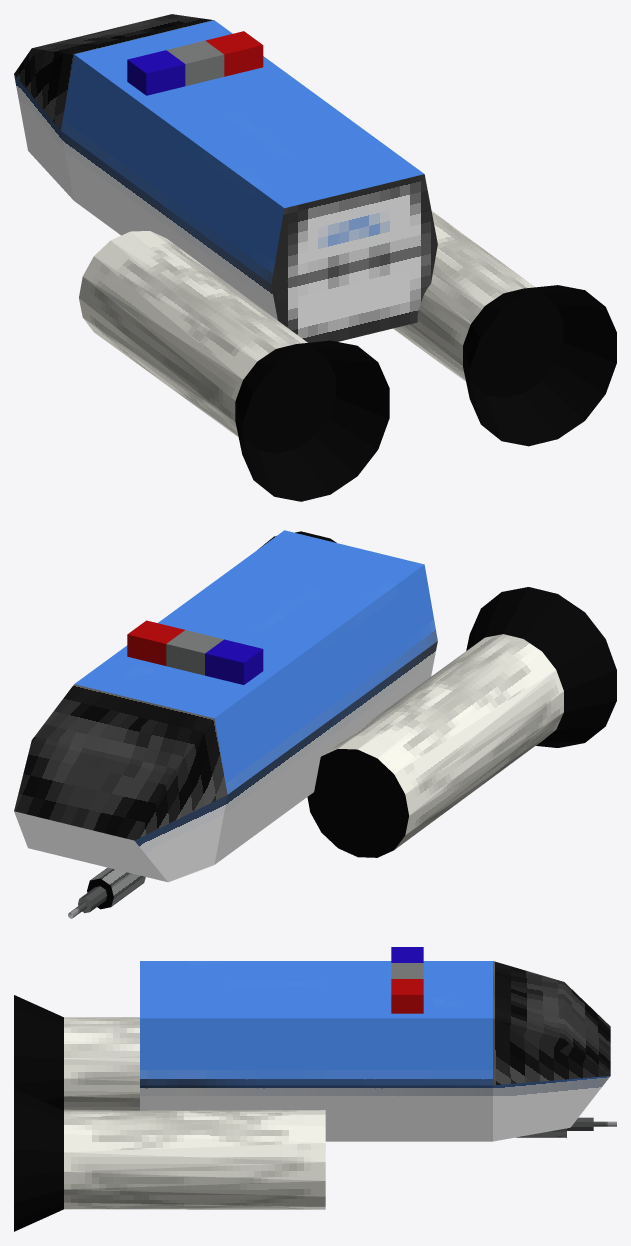
Rendered from SPACE_SHIP.fbx.
3 views of the same model, one above another, from view 1: azimuth 30°, elevation 25°; view 2: azimuth 150°, elevation 25°; view 3: azimuth 270°, elevation 25° (orthographic). The views are drawn at different scales.
Parts seen in each view (by area): view 1: Cube, Cylinder, Cube.001; view 2: Cube, Cylinder, Cube.001, Cube.004; view 3: Cube, Cylinder, Cube.001, Cube.004.
Part boxes in pixels (bbox=[...]): Cube: bbox=[14, 14, 437, 342]; Cylinder: bbox=[79, 211, 616, 501]; Cube.001: bbox=[127, 31, 263, 95]; Cube: bbox=[14, 530, 437, 882]; Cylinder: bbox=[259, 531, 616, 857]; Cube.001: bbox=[127, 620, 263, 684]; Cube.004: bbox=[68, 867, 145, 918]; Cube: bbox=[140, 961, 610, 1141]; Cylinder: bbox=[14, 995, 325, 1231]; Cube.001: bbox=[391, 947, 423, 1013]; Cube.004: bbox=[516, 1117, 616, 1137].
Size of the model in its own units: 1999 by 1257 by 3318.
